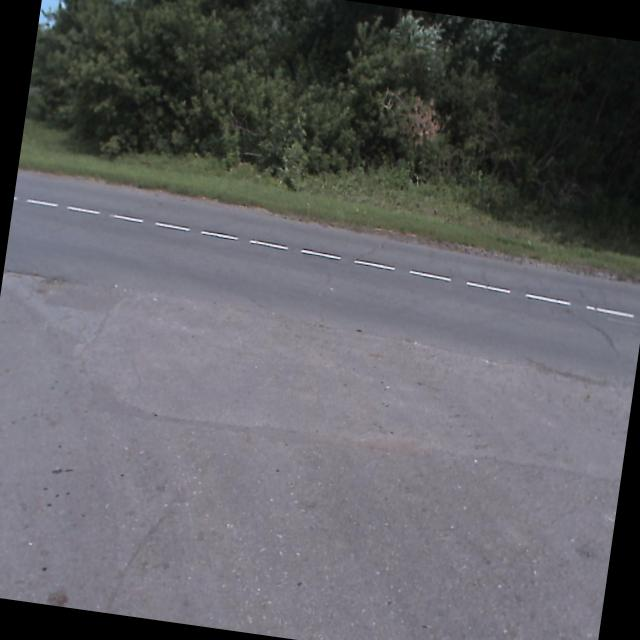road: (0, 169, 640, 640)
